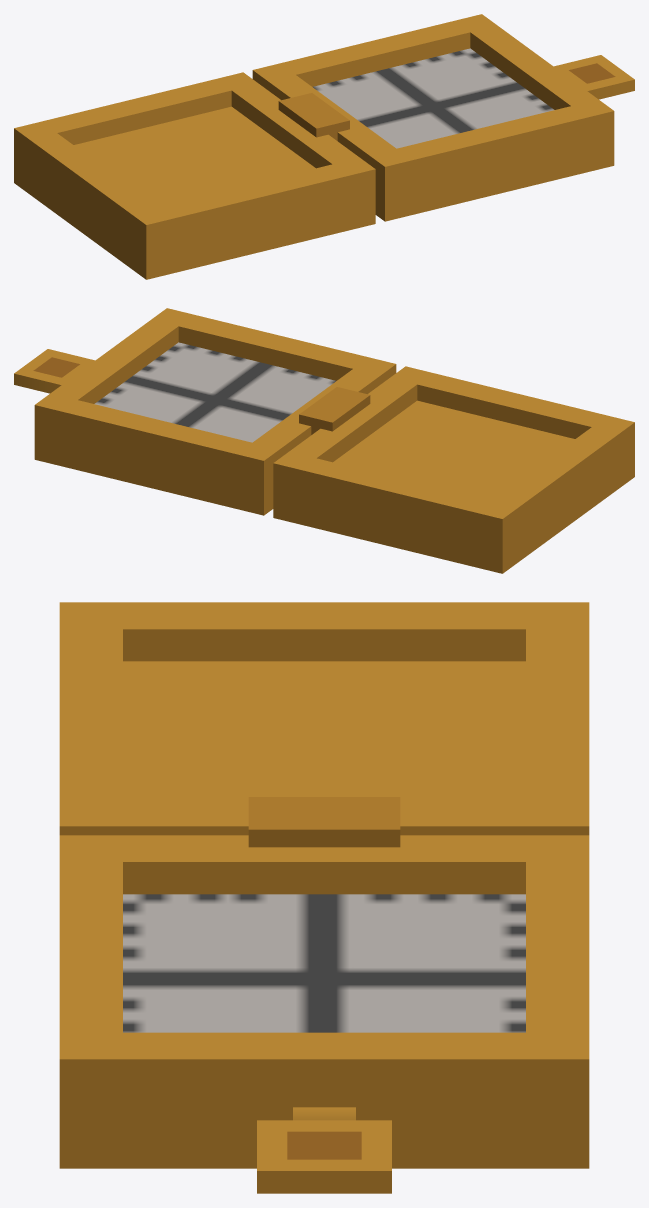
File: AI_Item_Compass.fbx
3 renders of one model, top to bottom at view 1: azimuth 30°, elevation 25°; view 2: azimuth 150°, elevation 25°; view 3: azimuth 270°, elevation 25°, orthographic. The views are drawn at different scales.
Visible parts, largest first — view 1: AI_Item_Compass; view 2: AI_Item_Compass; view 3: AI_Item_Compass.
Part boxes in pixels (<box>): AI_Item_Compass: <box>14,14,634,279</box>; AI_Item_Compass: <box>14,308,634,573</box>; AI_Item_Compass: <box>59,602,589,1193</box>.
Bounding box in the file's own units: 0.39 × 0.0441 × 0.1663.
